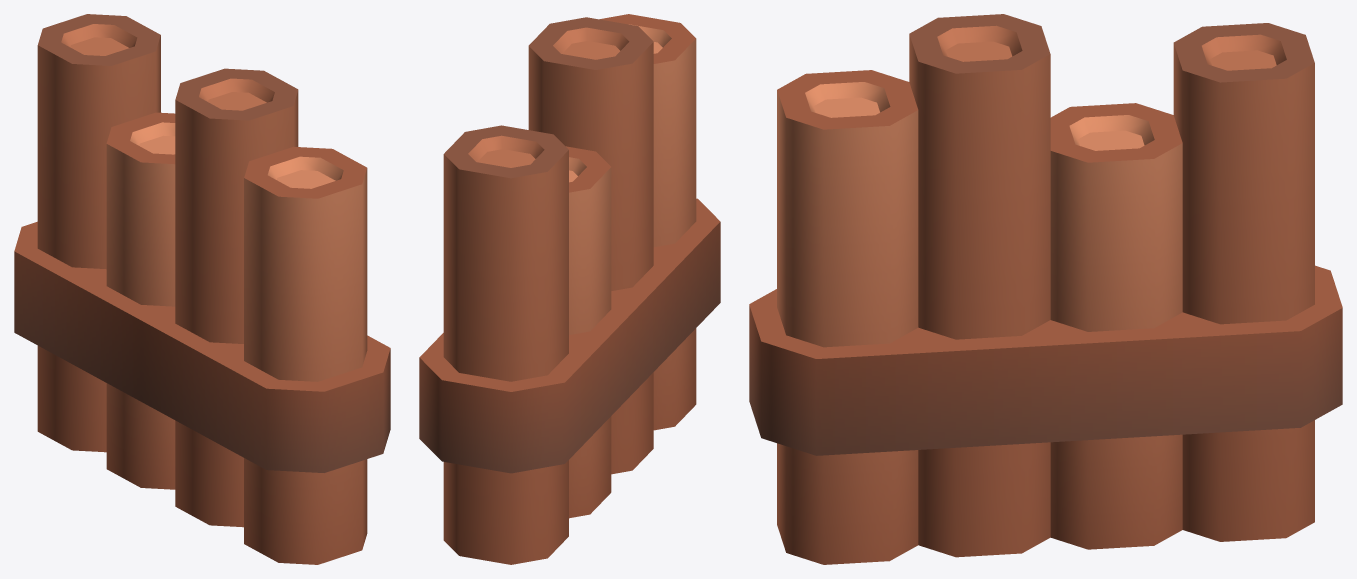
File: n5_n5_poles_lev5.001.glb
The picture shows the model from 3 angles, left to right: view 1: azimuth 30°, elevation 25°; view 2: azimuth 150°, elevation 25°; view 3: azimuth 270°, elevation 25°; orthographic projection. The views are drawn at different scales.
Parts seen in each view (by area): view 1: n5_n5_poles_lev5.001; view 2: n5_n5_poles_lev5.001; view 3: n5_n5_poles_lev5.001.
Boxes of the visible parts, bbox=[...] form: n5_n5_poles_lev5.001: bbox=[14, 14, 390, 564]; n5_n5_poles_lev5.001: bbox=[419, 14, 720, 564]; n5_n5_poles_lev5.001: bbox=[749, 14, 1342, 564].
Bounding box in the file's own units: 2.34 × 4.96 × 5.52.
1 material, 1 textured.
